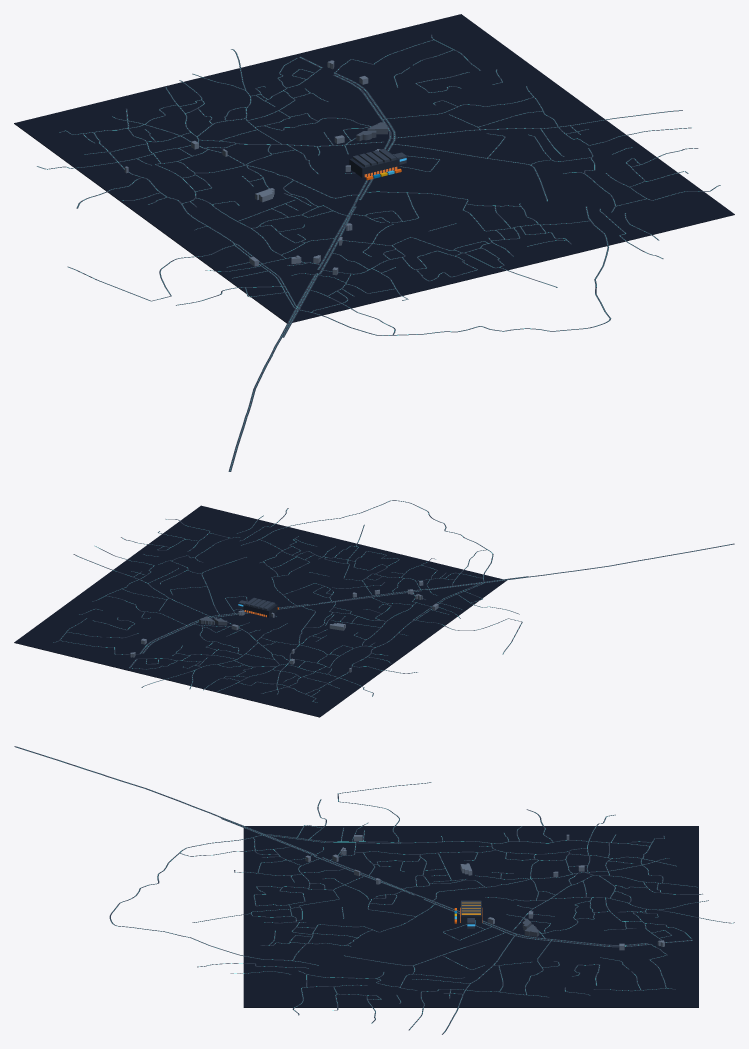
Rendered from facility_bhiwandi.glb.
3 views of the same model, one above another, from view 1: azimuth 30°, elevation 25°; view 2: azimuth 150°, elevation 25°; view 3: azimuth 270°, elevation 25° (orthographic). The views are drawn at different scales.
Visible parts, largest first — view 1: GroundSlab; view 2: GroundSlab, Road_311450363, Road_212269372; view 3: GroundSlab, Road_311450363, Road_212269372.
Boxes of the visible parts, x1,y1,x2,y2 form: GroundSlab: [14, 14, 734, 323]; GroundSlab: [14, 505, 506, 717]; Road_311450363: [429, 543, 734, 589]; Road_212269372: [241, 500, 493, 581]; GroundSlab: [243, 826, 698, 1007]; Road_311450363: [14, 746, 315, 854]; Road_212269372: [109, 835, 318, 965].
Bounding box in the file's own units: 11 × 0.1833 × 11.61.
